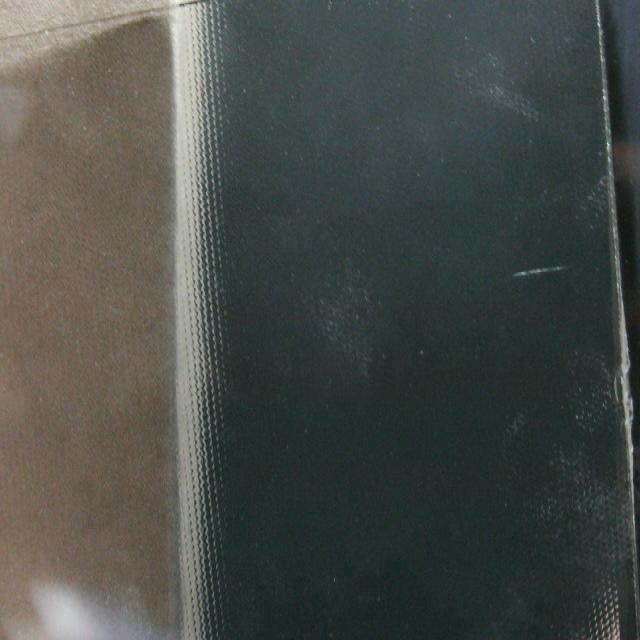edge_chip: (613, 268, 640, 496)
scratch: (508, 243, 568, 290)
